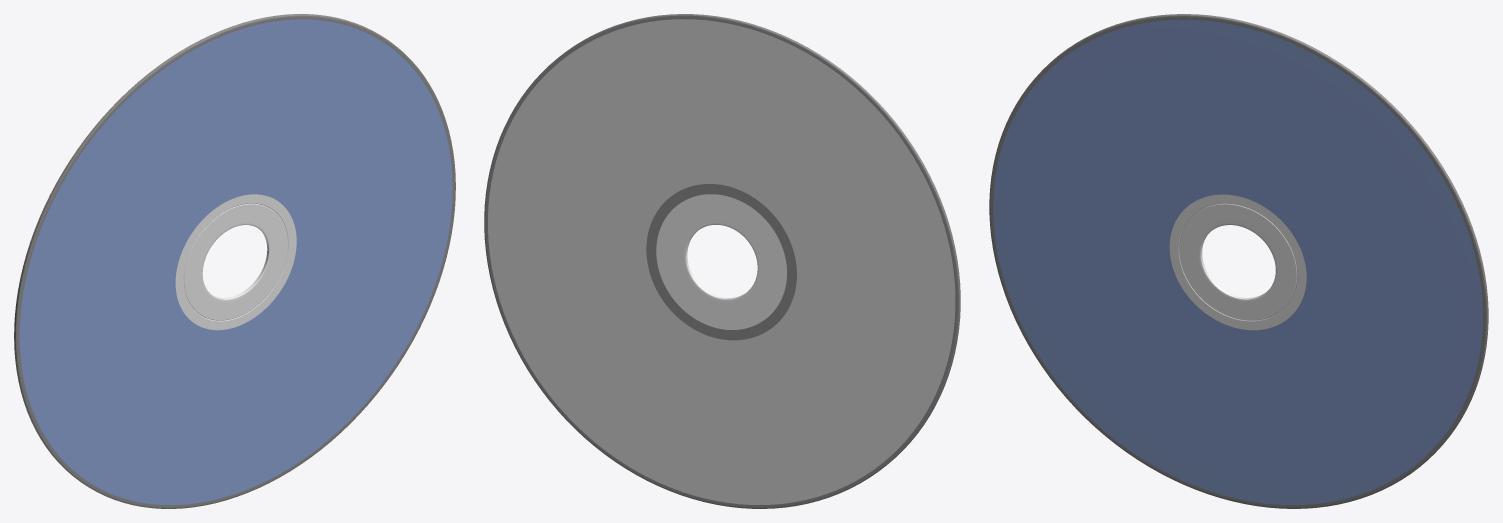
Rendered from disk.glb.
The picture shows the model from 3 angles, left to right: view 1: azimuth 30°, elevation 25°; view 2: azimuth 150°, elevation 25°; view 3: azimuth 330°, elevation 25°; orthographic projection. The views are drawn at different scales.
Parts seen in each view (by area): view 1: Circle; view 2: Circle; view 3: Circle.
Part boxes in pixels (x1,y1,x2,y2): Circle: (14,14,455,508); Circle: (484,14,960,508); Circle: (989,14,1488,508).
Bounding box in the file's own units: 4.74 × 4.75 × 0.543.
